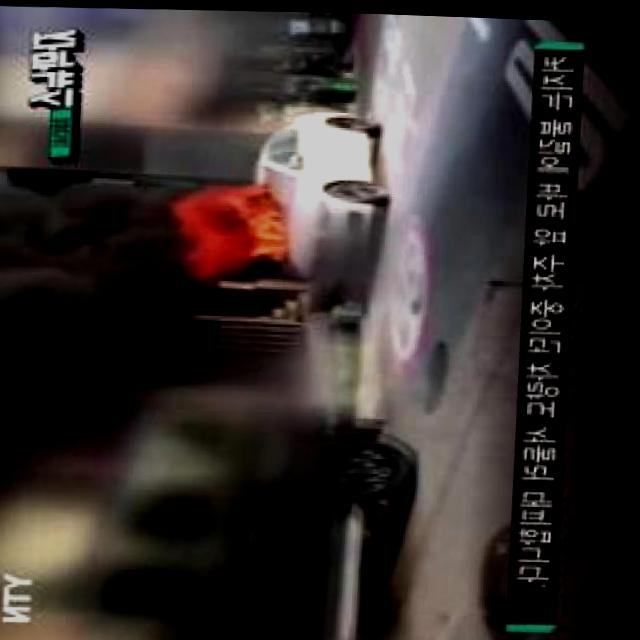helmet: (193, 183, 294, 271)
no_helmet: (0, 169, 193, 546)
